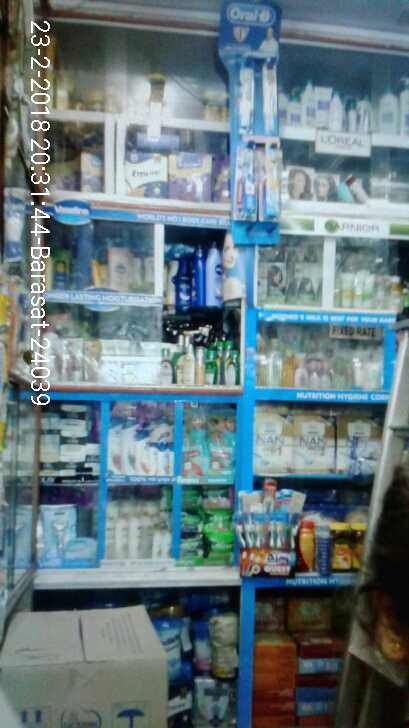venus: (41, 506, 67, 568), (67, 536, 98, 568)
